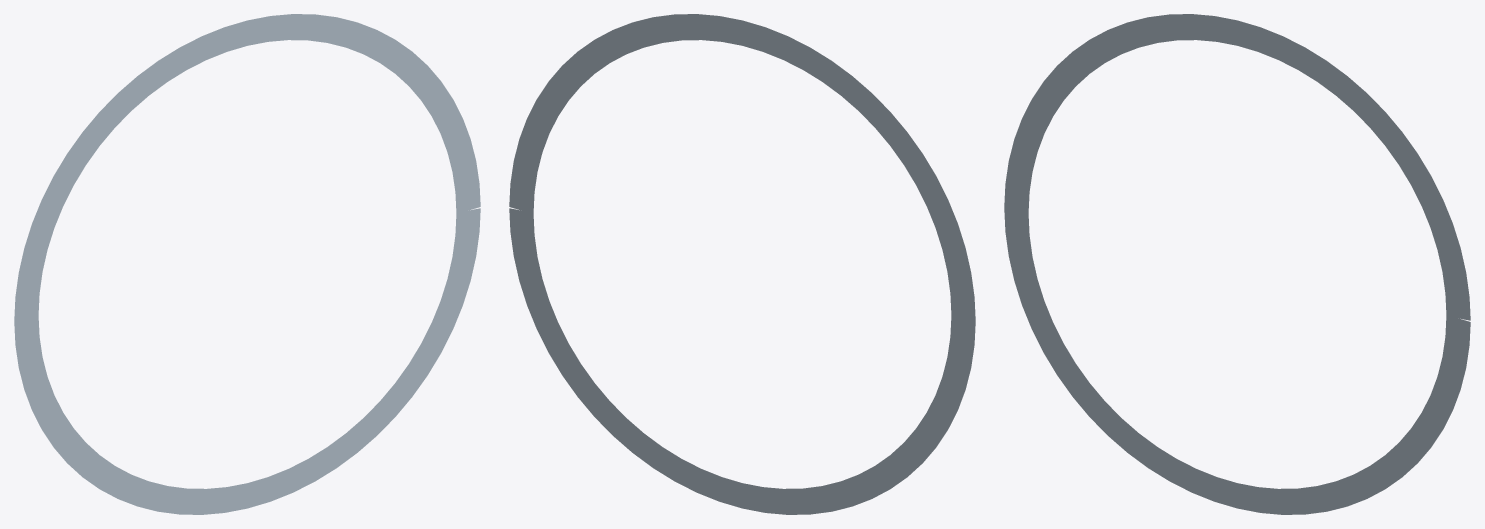
Rendered from Yanfei_DoneDeal_SharedGroundSealTrace.fbx.
The picture shows the model from 3 angles, left to right: view 1: azimuth 30°, elevation 25°; view 2: azimuth 150°, elevation 25°; view 3: azimuth 330°, elevation 25°; orthographic projection.
Visible parts, largest first — view 1: PART_OneGroupFierySealTrace; view 2: PART_OneGroupFierySealTrace; view 3: PART_OneGroupFierySealTrace.
Part boxes in pixels (bbox=[...]): PART_OneGroupFierySealTrace: bbox=[14, 14, 480, 514]; PART_OneGroupFierySealTrace: bbox=[509, 14, 975, 514]; PART_OneGroupFierySealTrace: bbox=[1004, 14, 1470, 514].
Bounding box in the file's own units: 211 × 211 × 3.44e-05.
